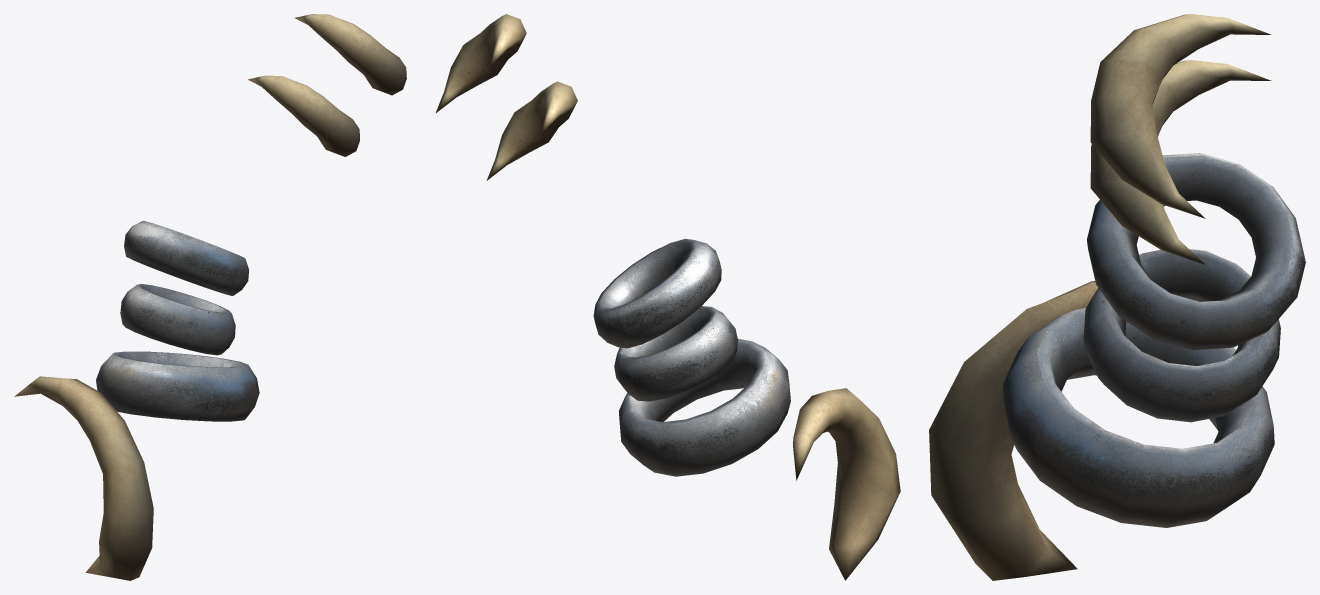
File: sm_yun_accessories_04.gltf
The picture shows the model from 3 angles, left to right: view 1: azimuth 30°, elevation 25°; view 2: azimuth 150°, elevation 25°; view 3: azimuth 270°, elevation 25°; orthographic projection. The views are drawn at different scales.
Parts seen in each view (by area): view 1: sm_yun_accessories_04; view 2: sm_yun_accessories_04; view 3: sm_yun_accessories_04.
Part boxes in pixels (x1,y1,x2,y2): sm_yun_accessories_04: (14, 14, 406, 580); sm_yun_accessories_04: (435, 14, 900, 580); sm_yun_accessories_04: (929, 14, 1305, 580).
Bounding box in the file's own units: 8.65 × 10.84 × 4.73.
1 material, 1 textured.
